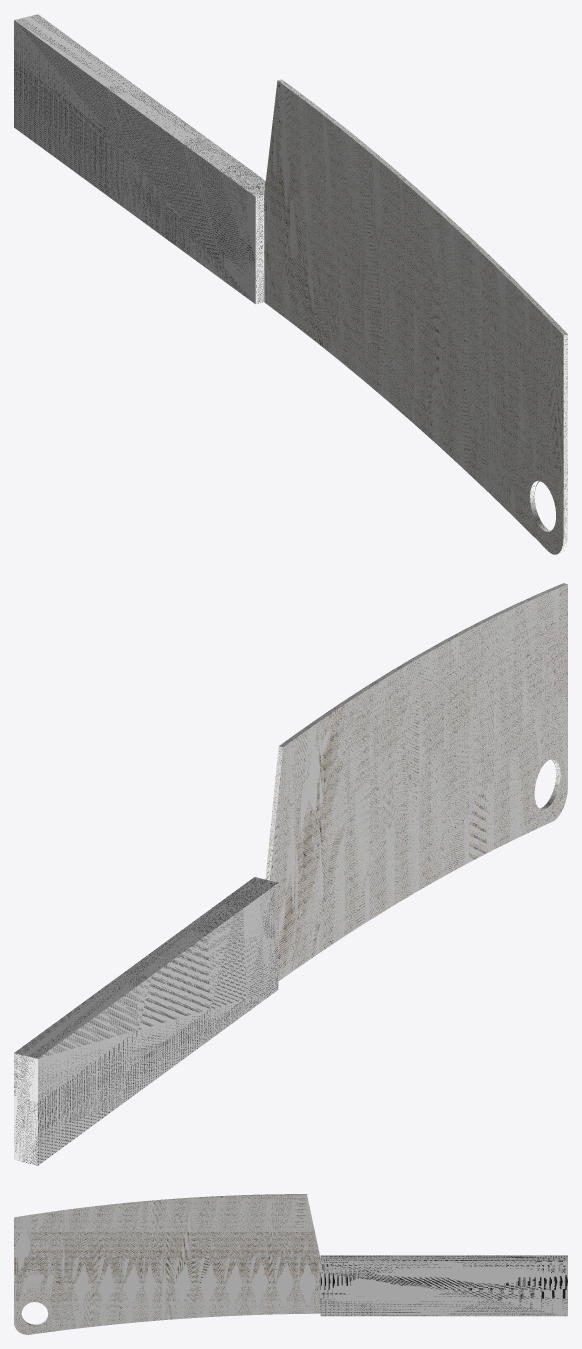
The model's file is model_align.obj.
3 renders of one model, top to bottom at view 1: azimuth 30°, elevation 25°; view 2: azimuth 150°, elevation 25°; view 3: azimuth 270°, elevation 25°, orthographic. The views are drawn at different scales.
Parts seen in each view (by area): view 1: mesh1_mesh1-geometry; view 2: mesh1_mesh1-geometry; view 3: mesh1_mesh1-geometry.
Part boxes in pixels (bbox=[...]): mesh1_mesh1-geometry: bbox=[14, 14, 567, 554]; mesh1_mesh1-geometry: bbox=[14, 583, 567, 1165]; mesh1_mesh1-geometry: bbox=[14, 1194, 567, 1334].
Size of the model in its own units: 0.00547 by 0.0594 by 0.2133.
